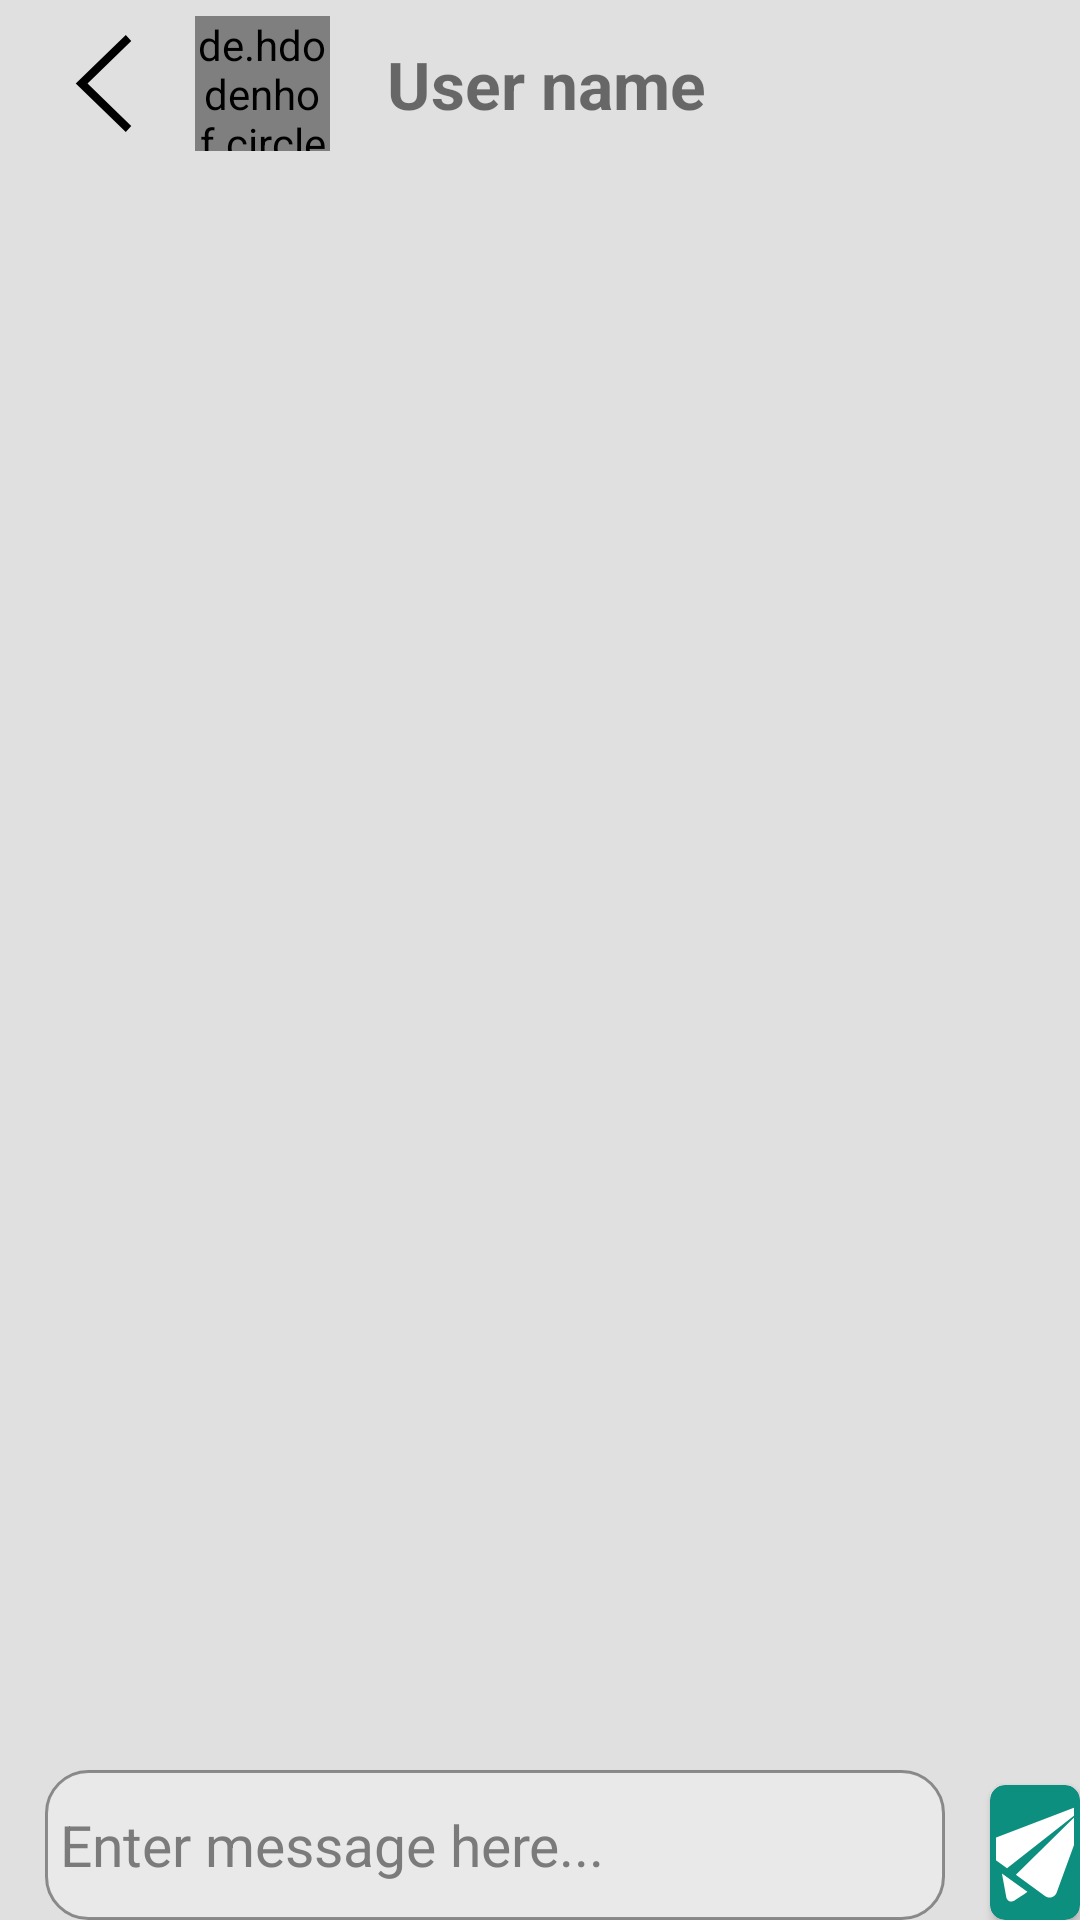

Named icons in this screenshot (1080x1920) and their centers, (x=x, y=y):
gui email send: (x=1035, y=1854)
